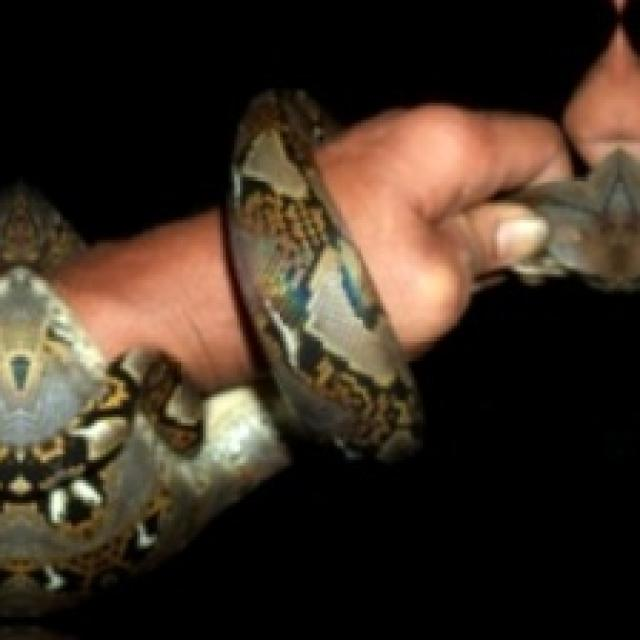reticulated python: (0, 91, 418, 616), (505, 150, 640, 292)
